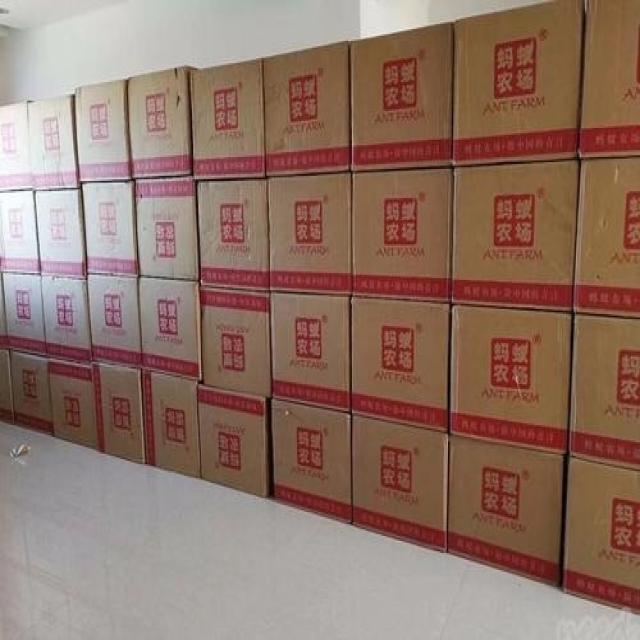box: (452, 0, 584, 165), (451, 160, 579, 311), (449, 306, 571, 454), (447, 435, 563, 588), (350, 21, 452, 170), (353, 168, 453, 302), (352, 415, 449, 553), (351, 296, 449, 432), (562, 457, 639, 614), (263, 41, 350, 176), (569, 314, 639, 469), (573, 157, 639, 317), (267, 172, 352, 295), (272, 398, 351, 522), (578, 0, 639, 157), (271, 293, 350, 412), (192, 58, 266, 179), (200, 286, 272, 398), (198, 383, 268, 497), (198, 180, 270, 290), (127, 65, 192, 177), (139, 276, 202, 381), (135, 177, 198, 279), (142, 369, 200, 478), (74, 79, 131, 181), (91, 362, 145, 464), (82, 181, 139, 277), (88, 273, 141, 368), (28, 93, 80, 189), (34, 189, 86, 278), (41, 276, 93, 364), (48, 355, 96, 450), (2, 273, 46, 355), (10, 350, 52, 435), (0, 190, 40, 274), (0, 100, 33, 190), (0, 349, 15, 424)
